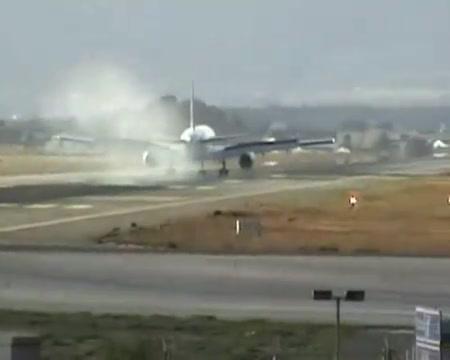aeroplane: (59, 82, 341, 184)
